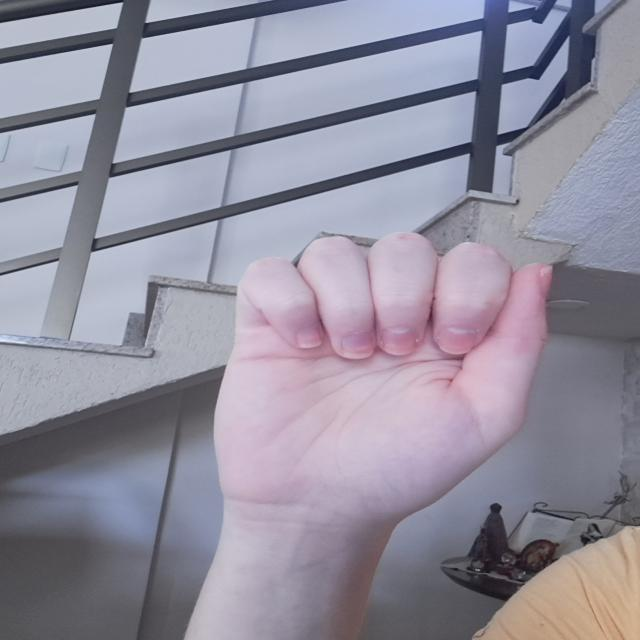A: (214, 233, 562, 520)
